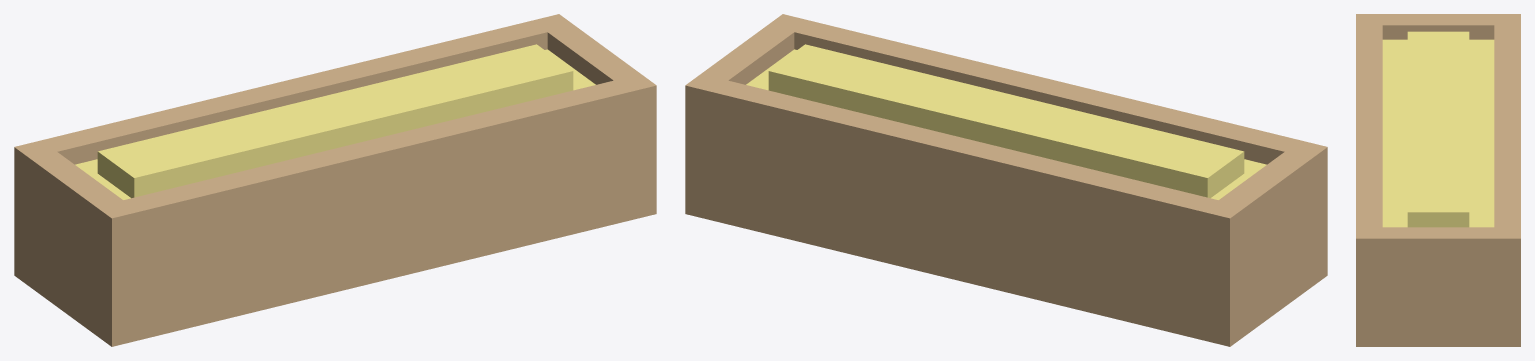
File: feeder.fbx
The picture shows the model from 3 angles, left to right: view 1: azimuth 30°, elevation 25°; view 2: azimuth 150°, elevation 25°; view 3: azimuth 270°, elevation 25°; orthographic projection. The views are drawn at different scales.
Visible parts, largest first — view 1: zdq_1; view 2: zdq_1; view 3: zdq_1.
Boxes of the visible parts, <box> form: zdq_1: <box>14,14,656,346</box>; zdq_1: <box>685,14,1327,346</box>; zdq_1: <box>1356,14,1520,346</box>.
Size of the model in its own units: 649 by 152 by 201.
